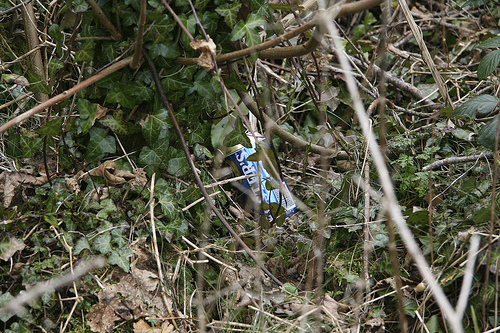litter: (218, 131, 297, 223)
